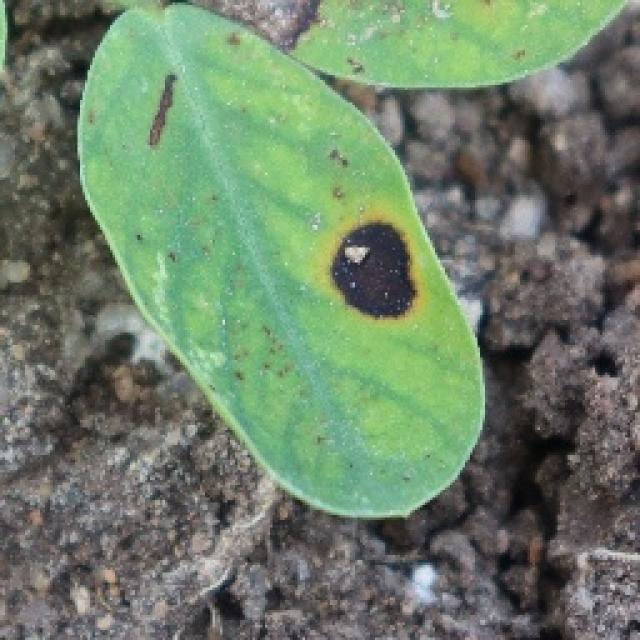Yellowish: (301, 114, 434, 334), (92, 42, 197, 170)
